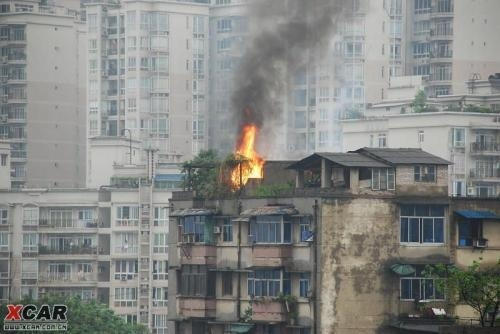fire: (229, 125, 264, 185)
